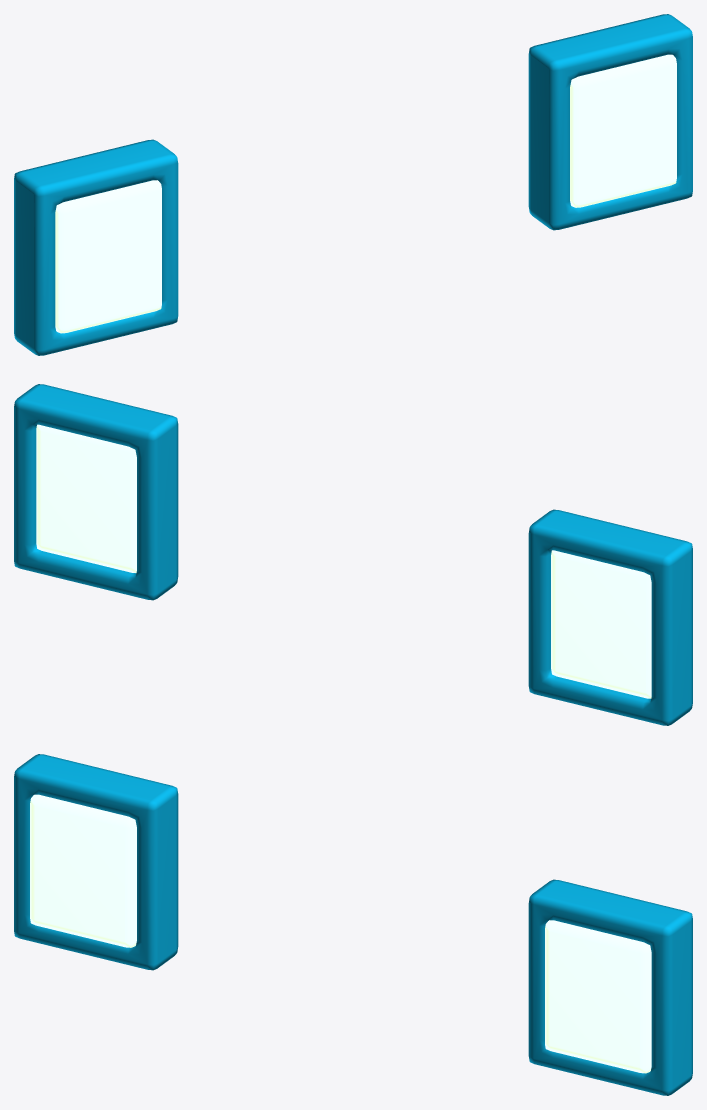
Rendered from SM_Clay_Window_02.fbx.
3 views of the same model, one above another, from view 1: azimuth 30°, elevation 25°; view 2: azimuth 150°, elevation 25°; view 3: azimuth 330°, elevation 25° (orthographic).
Visible parts, largest first — view 1: SM_Clay_Window_02; view 2: SM_Clay_Window_02; view 3: SM_Clay_Window_02.
Boxes of the visible parts, box(x1,y1,x2,y2) form: SM_Clay_Window_02: box(14, 14, 692, 355); SM_Clay_Window_02: box(14, 384, 692, 725); SM_Clay_Window_02: box(14, 754, 692, 1095).
Size of the model in its own units: 1.35 by 0.3325 by 0.1031.
